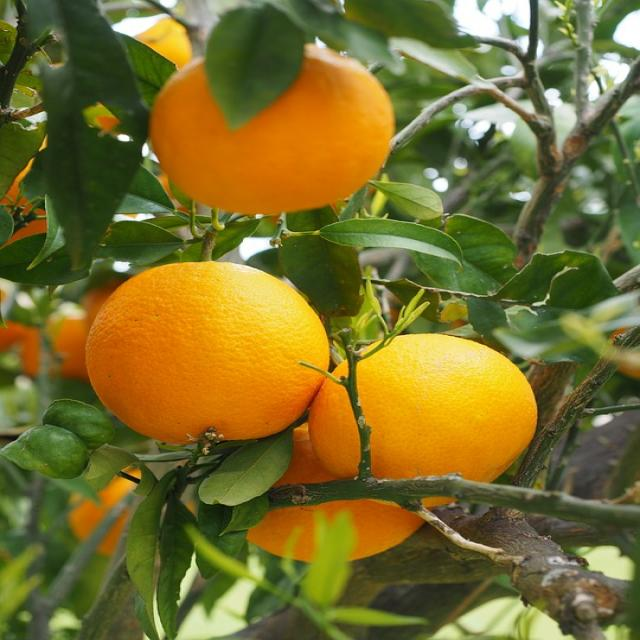orange: (150, 40, 394, 216), (92, 258, 324, 440), (312, 330, 562, 498), (223, 402, 434, 564), (98, 16, 207, 115), (45, 269, 135, 382), (0, 308, 46, 387)
